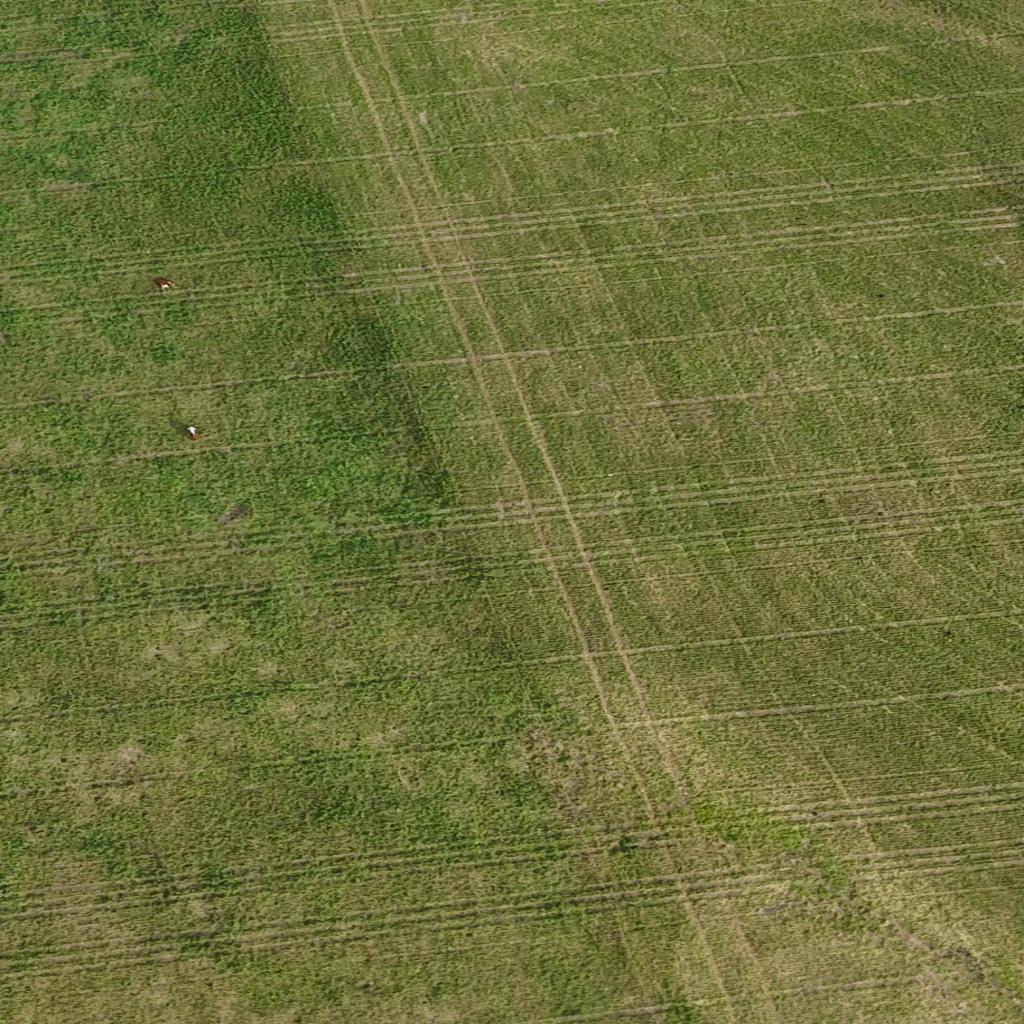cow: (183, 424, 207, 443), (151, 276, 178, 292)
